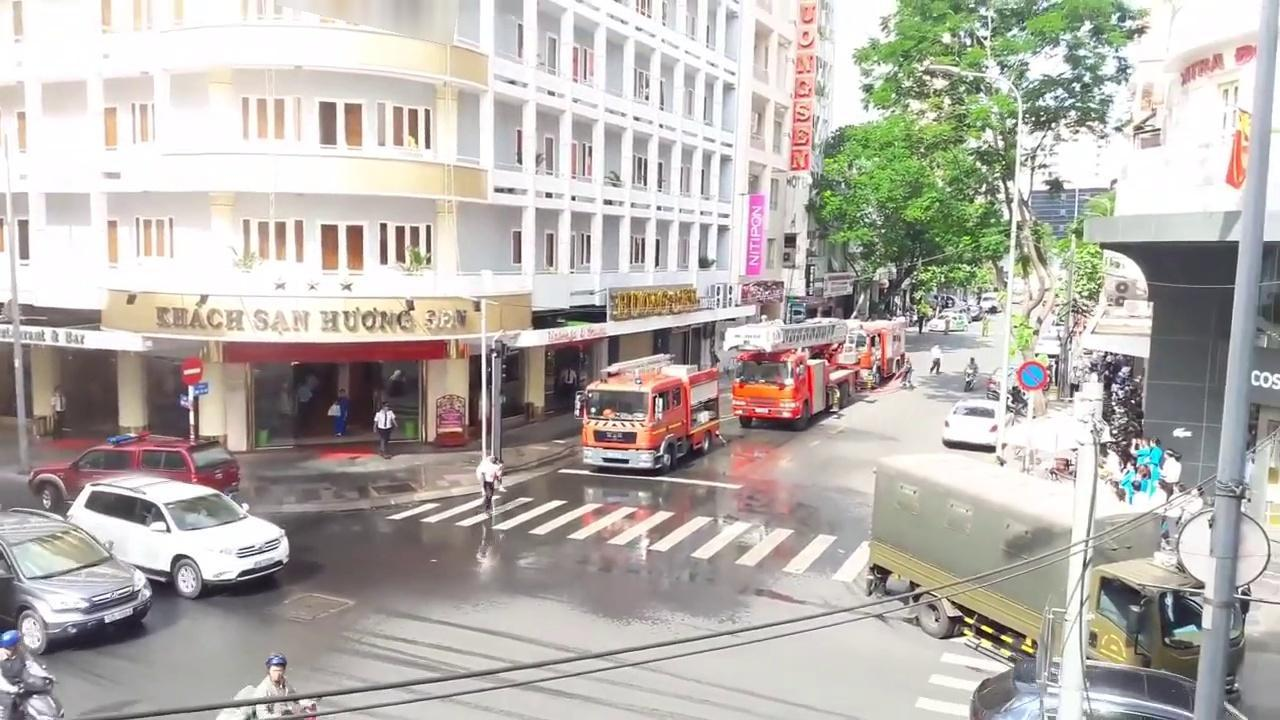xe cuu hoa: (582, 351, 722, 473), (725, 325, 860, 427), (838, 314, 906, 389)
xe hoi: (66, 473, 280, 594), (0, 506, 148, 649), (939, 397, 1009, 450)
xe may: (0, 627, 69, 718)
xe tai: (867, 450, 1246, 702)
